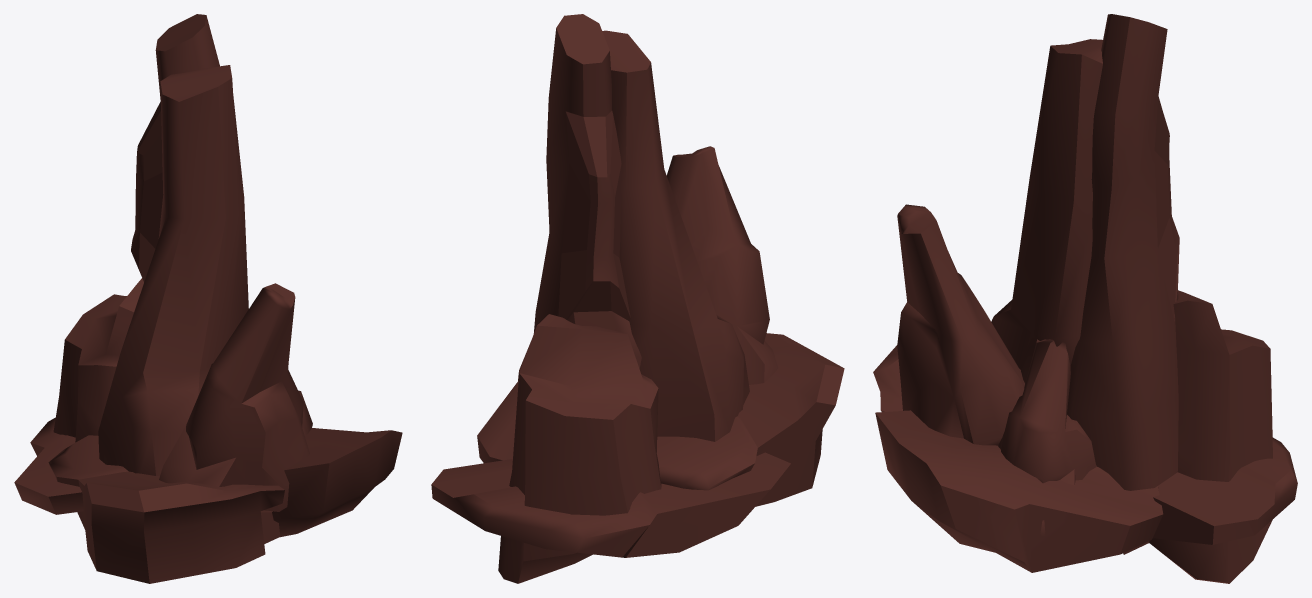
Rendered from SM_big_rock_complex_A.fbx.
The picture shows the model from 3 angles, left to right: view 1: azimuth 30°, elevation 25°; view 2: azimuth 150°, elevation 25°; view 3: azimuth 270°, elevation 25°; orthographic projection. The views are drawn at different scales.
Parts seen in each view (by area): view 1: polySurface43; view 2: polySurface43; view 3: polySurface43.
Boxes of the visible parts, left/top/right/bottom form: polySurface43: left=14, top=14, right=402, bottom=583; polySurface43: left=431, top=14, right=844, bottom=583; polySurface43: left=873, top=14, right=1297, bottom=583.
Size of the model in its own units: 933 by 1513 by 1040.
